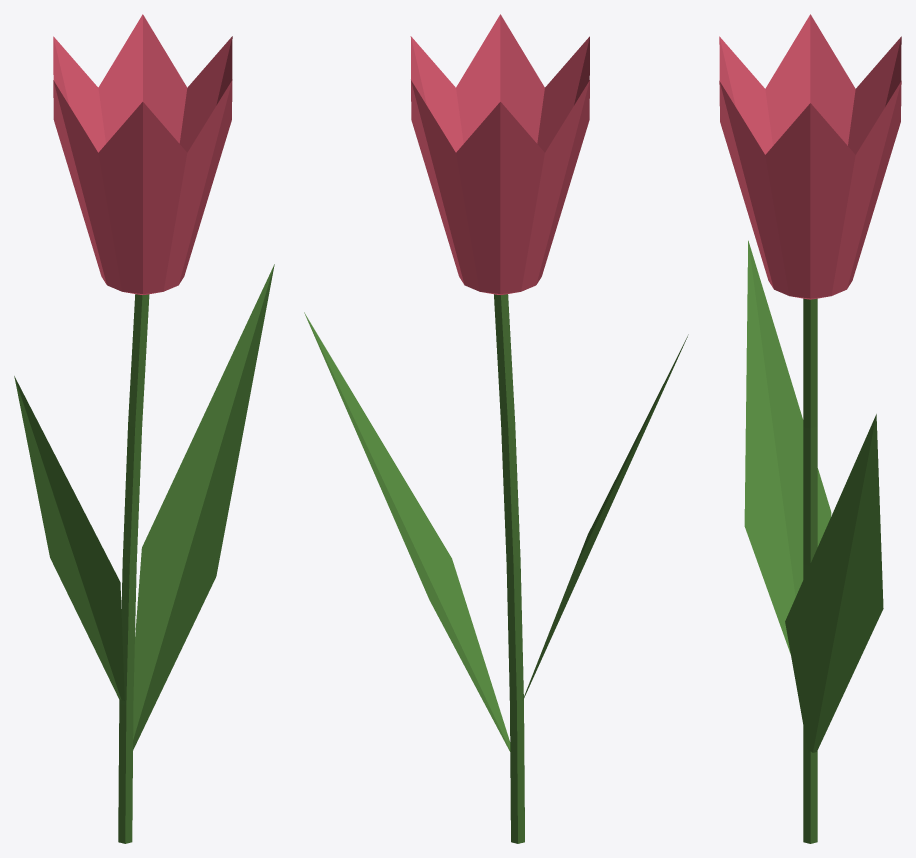
The model's file is tulip.glb.
The picture shows the model from 3 angles, left to right: view 1: azimuth 30°, elevation 25°; view 2: azimuth 150°, elevation 25°; view 3: azimuth 270°, elevation 25°; orthographic projection.
Parts seen in each view (by area): view 1: tulip; view 2: tulip; view 3: tulip.
Part boxes in pixels (left/top/right/bottom): tulip: left=14, top=14, right=274, bottom=843; tulip: left=304, top=14, right=688, bottom=843; tulip: left=719, top=14, right=901, bottom=843.
Size of the model in its own units: 0.1843 by 0.4232 by 0.0883.
